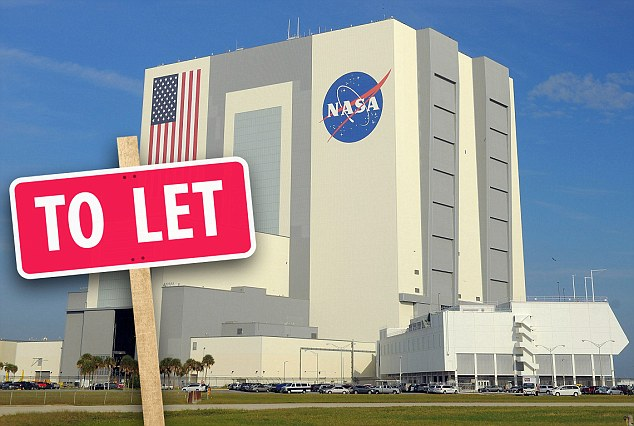NASA: (316, 63, 391, 143)
